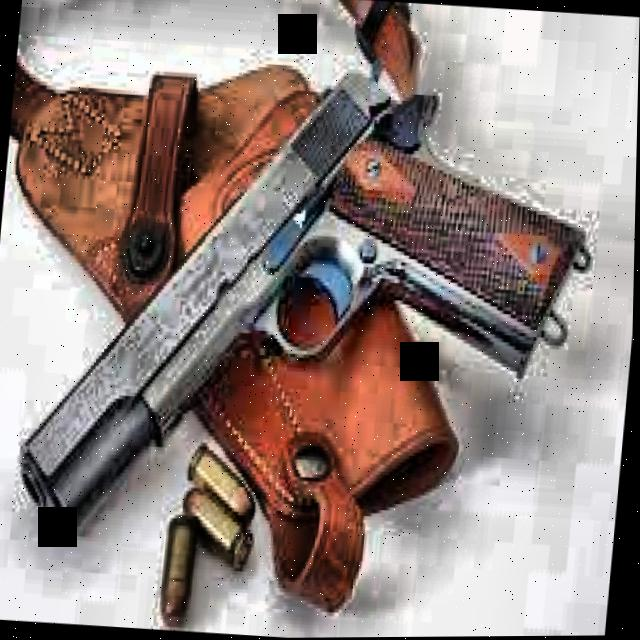Colt m1911: (4, 52, 598, 563)
